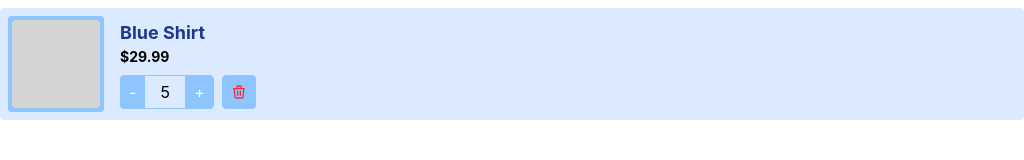
Test: quantity input › reverts the input to the prop quantity when an invalid value is entered on blur
Clear the number field labelled "Blue Shirt": (165, 92) x1=145 y1=75 x2=185 y2=109
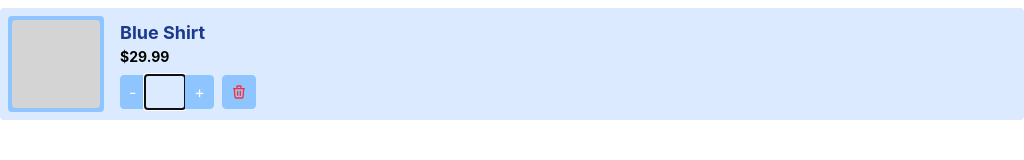
# Leave the field empty and blur — invalid input
Press Tab
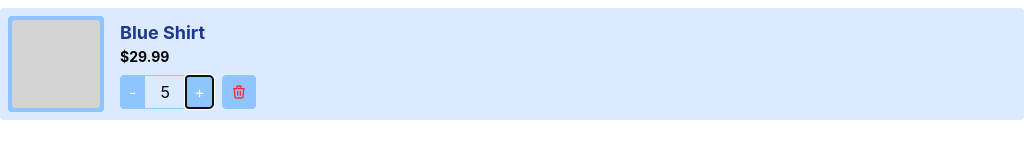
Now the number field labelled "Blue Shirt" holds "5", box x1=145 y1=75 x2=185 y2=109
